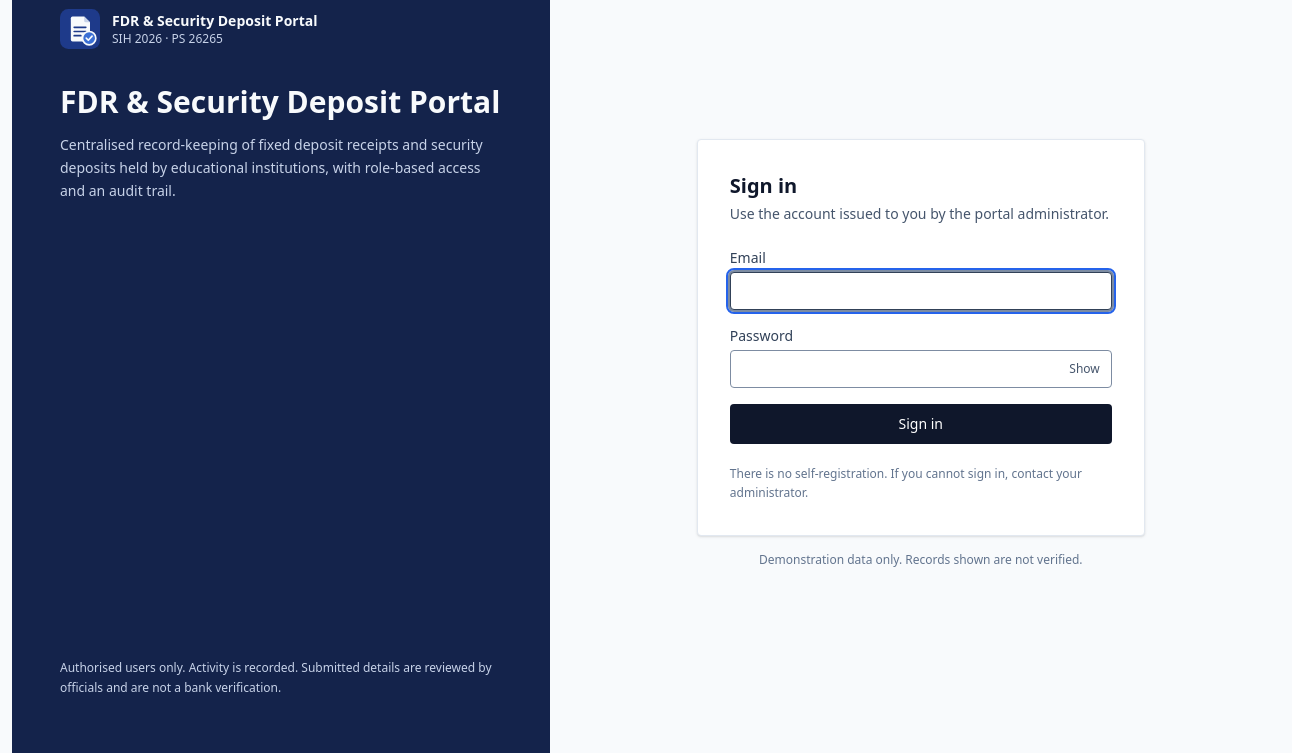
Test case: temporary password -> new password -> application › still returns to an ordinary page that required sign-in
Expected: the heading "Sign in" is shown, [730,172,797,198]
Type "admin@example.invalid" into the field labelled "Email". click: (921, 290)
box: [730,272,1112,310]
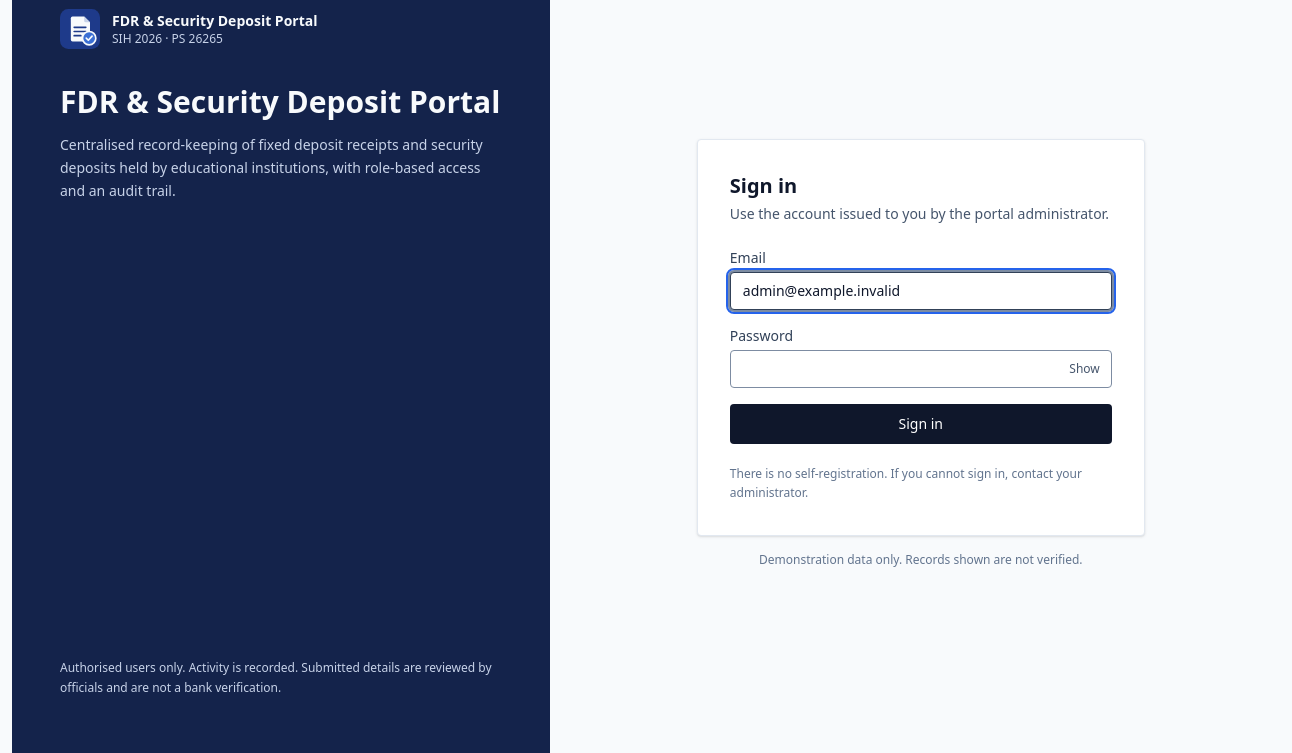
Type "a-brand-new-passphrase" into the password field labelled "Password". click: (921, 368)
box: [730,350,1112,388]
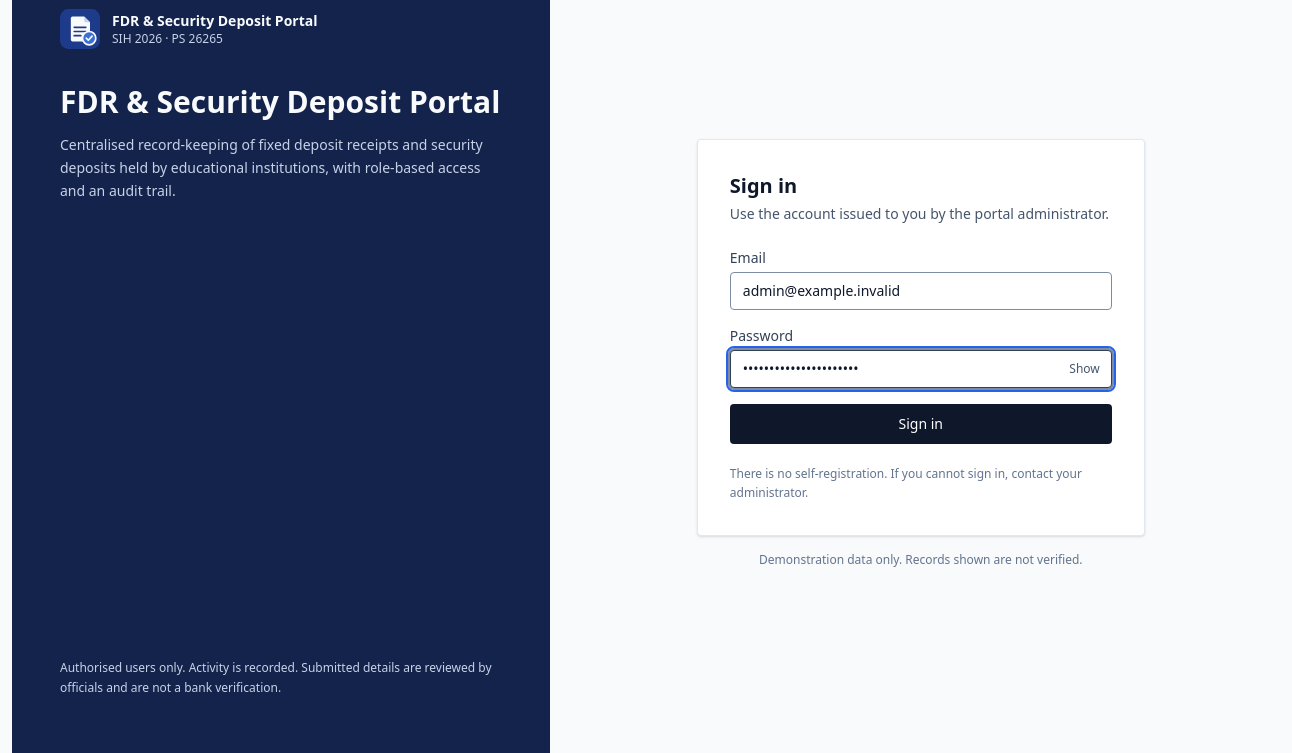
Click the button "Sign in". click: (921, 424)
box: [730,404,1112,444]
(page scrolled)
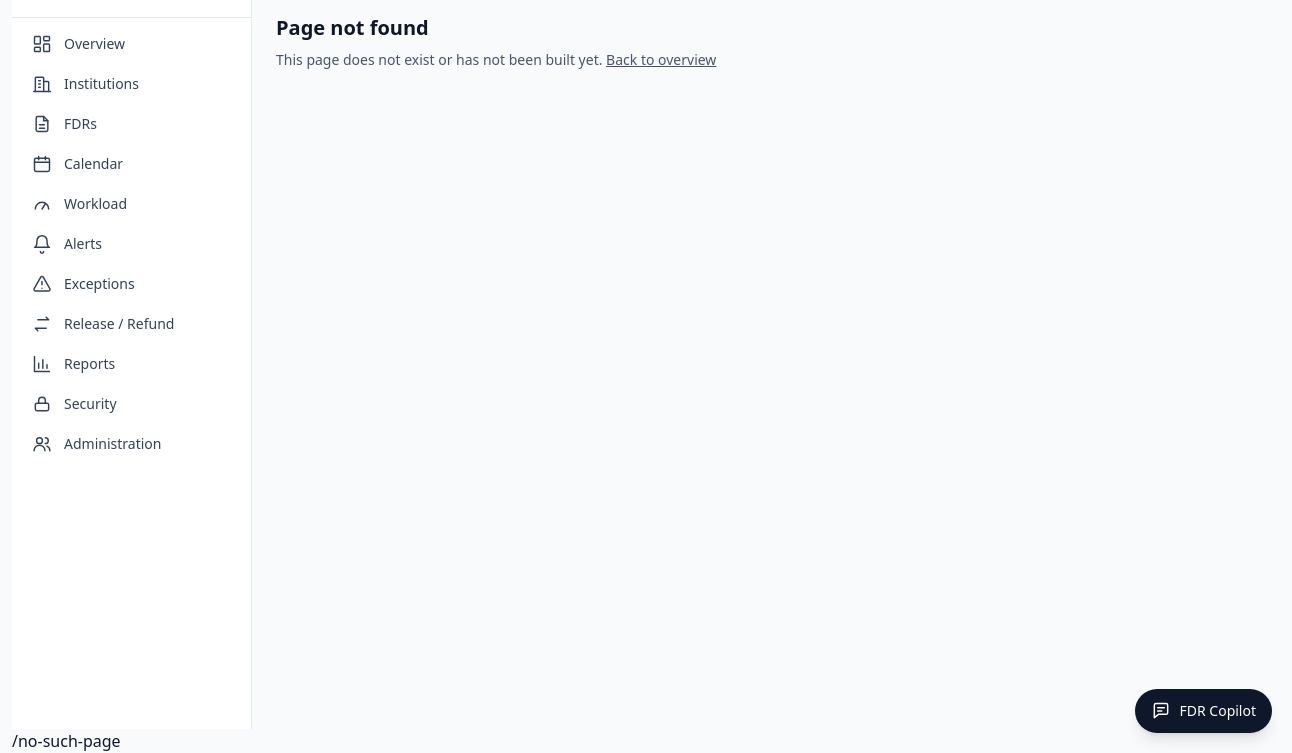
Expected: the heading "Page not found" is shown, [276,14,429,41]
Expected: the text with test id "location" reads "/no-such-page", [12,730,121,752]
